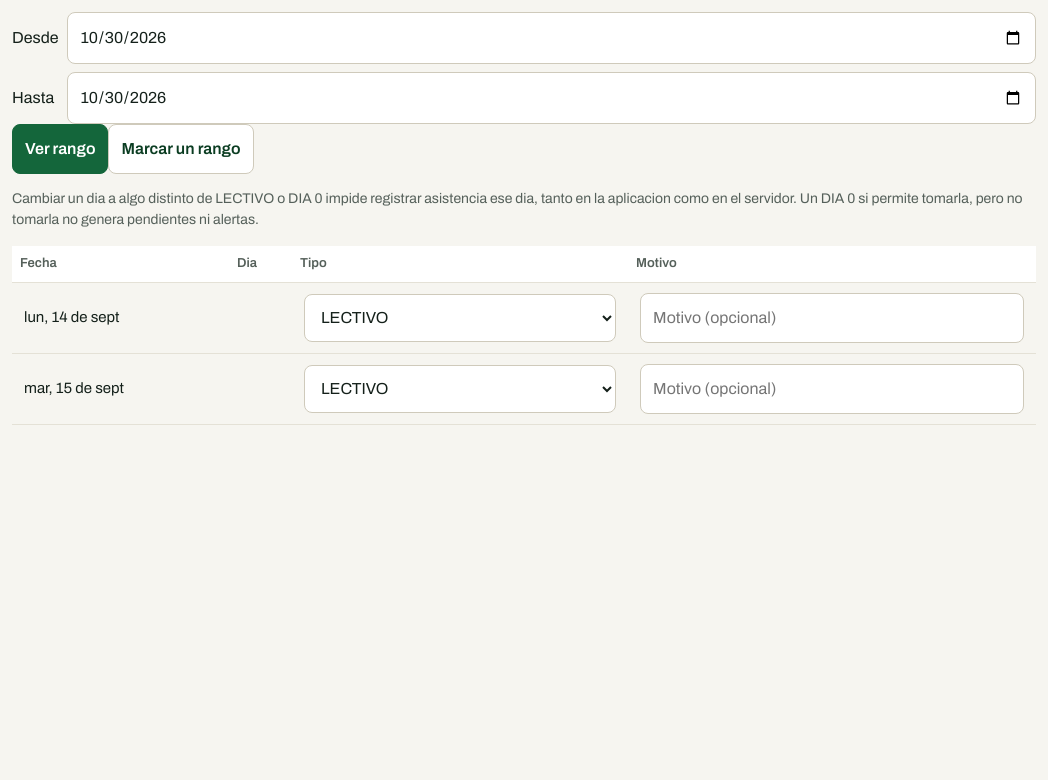
PanelCalendario › dice cuantos dias cambio, para que el rector vea si fueron los que esperaba
The image size is (1048, 780).
Click the button "Marcar un rango". click: (181, 149)
box: [108,124,254,174]
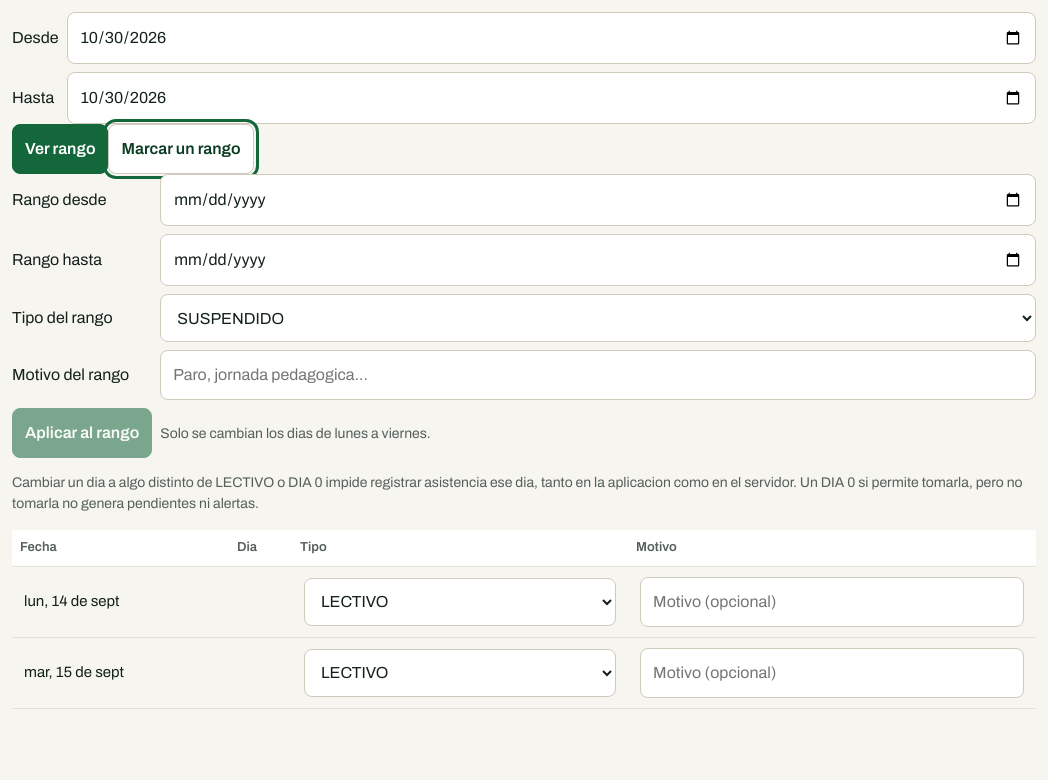
Type "2026-09-07" into the date field labelled "Rango desde". click: (598, 200)
box: [160,174,1036,226]
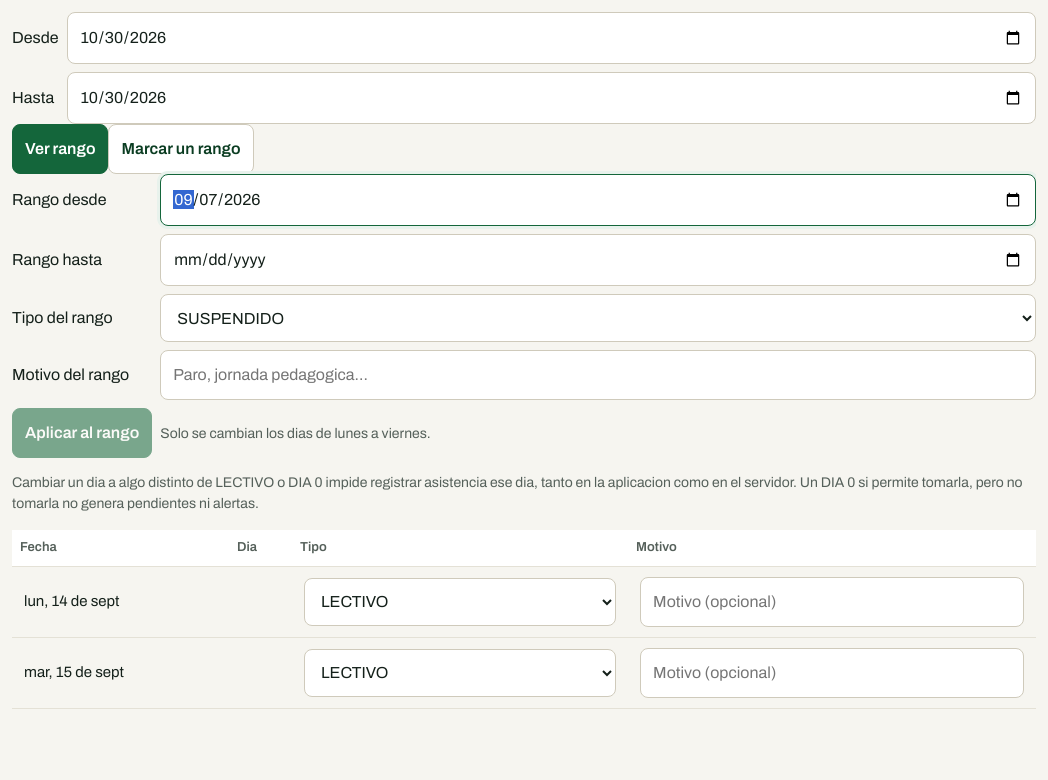
Type "2026-09-09" into the date field labelled "Rango hasta". click: (598, 260)
box: [160,234,1036,286]
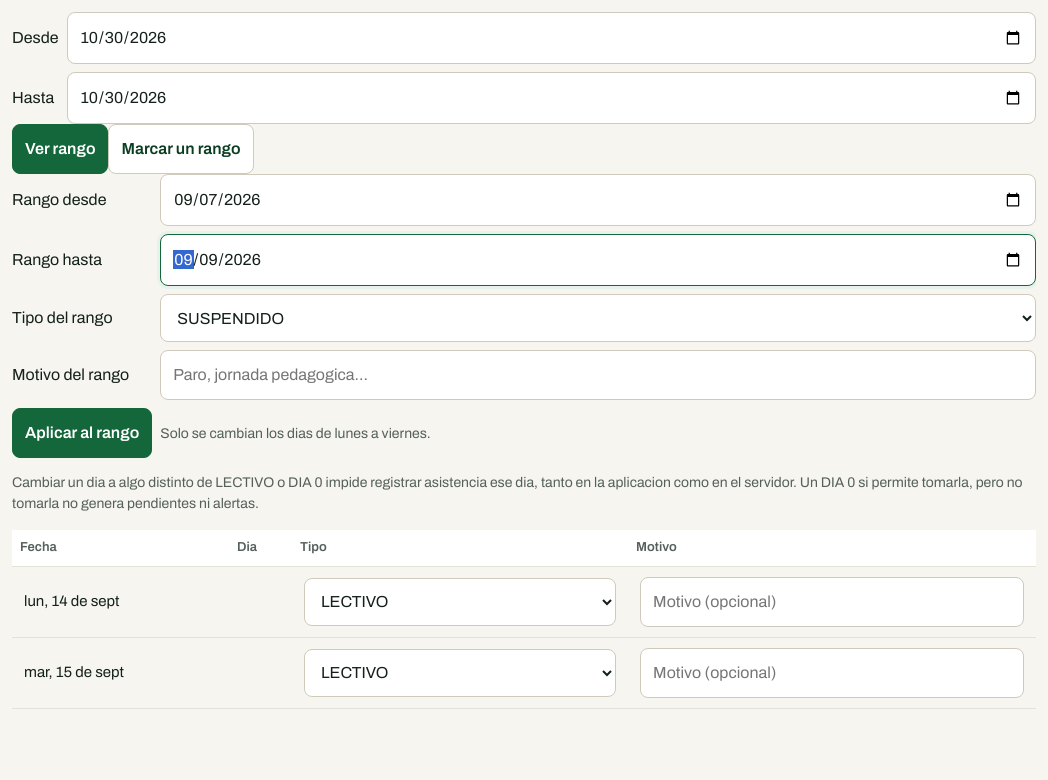
Click the button "Aplicar al rango". click: (82, 433)
box: [12,408,152,458]
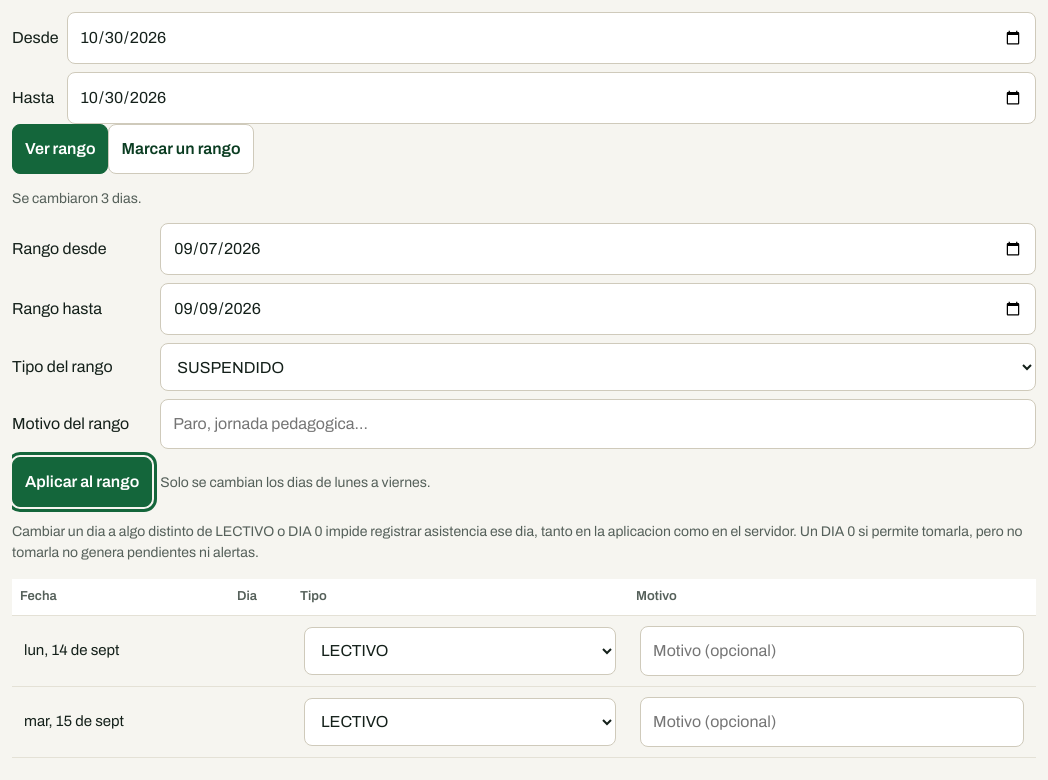
Check: the message shows "3 dias", box [12,191,142,206]
